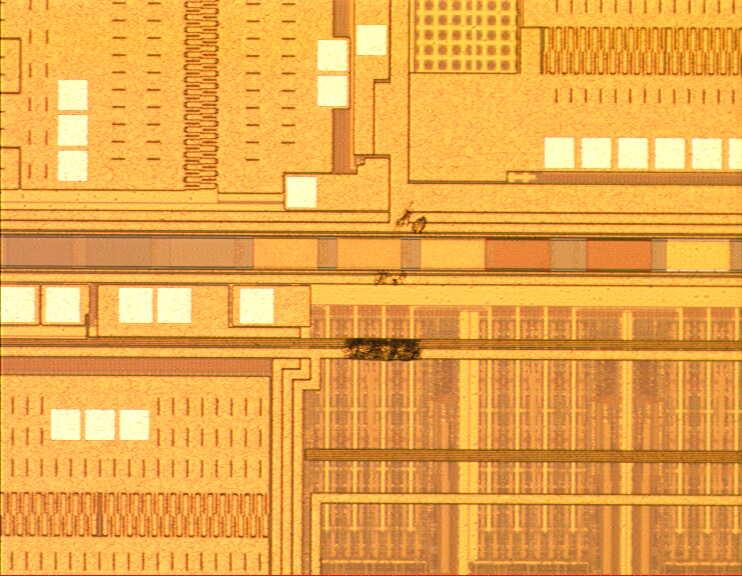SCRATCH: (329, 200, 439, 381)
